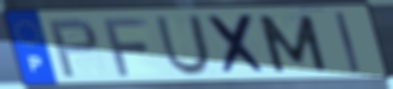F: (100, 16, 151, 78)
I: (332, 10, 363, 74)
M: (254, 13, 331, 75)
P: (45, 16, 101, 80)
U: (153, 13, 215, 78)
X: (204, 12, 272, 77)
